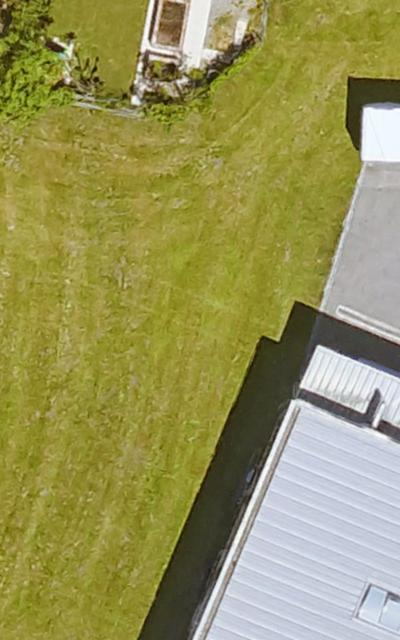tree: (1, 0, 55, 117)
